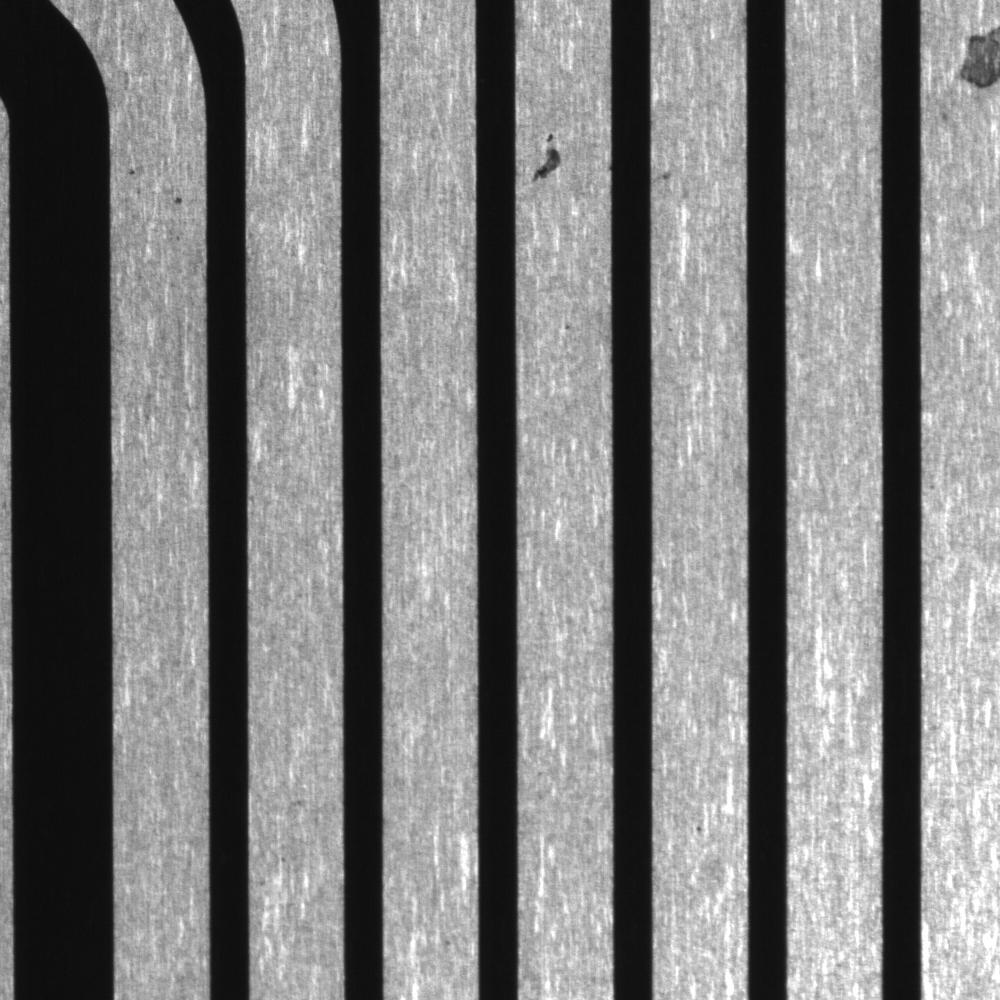Discolor: (952, 24, 1000, 94)
Etching: (529, 124, 579, 205), (123, 163, 187, 209), (651, 153, 684, 206), (602, 150, 618, 185), (557, 315, 576, 341)
Pinhole: (689, 817, 711, 840)
